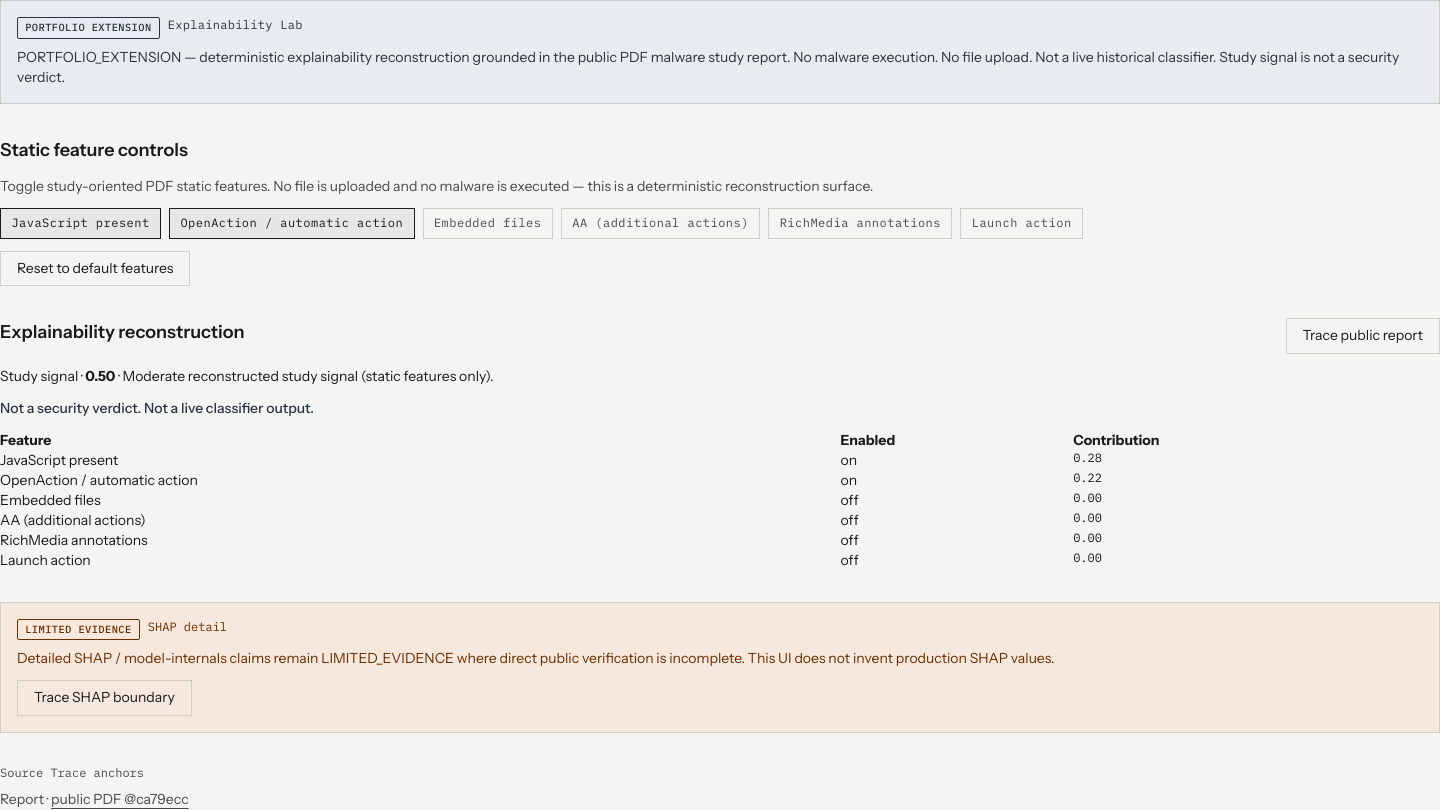
Scenario: MalwareLab (M13) › opens Source Trace for the public report with SHA fingerprint
The width and height of the screenshot is (1440, 810).
Click the button "Trace public report": (1363, 336) [1286,318,1439,354]
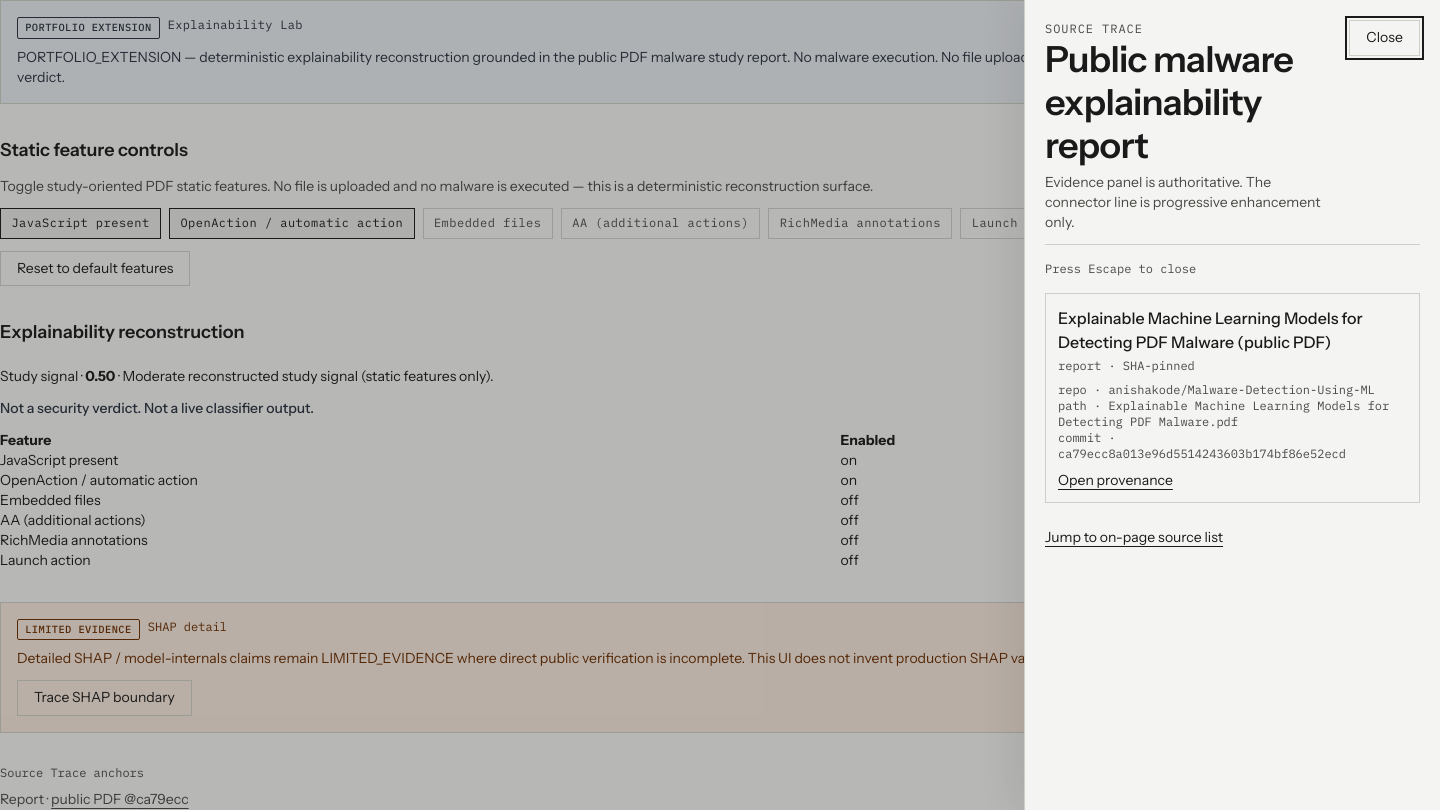
Check: the dialog is shown, box [1024,0,1439,809]
Check: the text "commit · ca79ecc8a013e96d5514243603b174bf86e52ecd" is shown, box [1058,430,1346,461]
